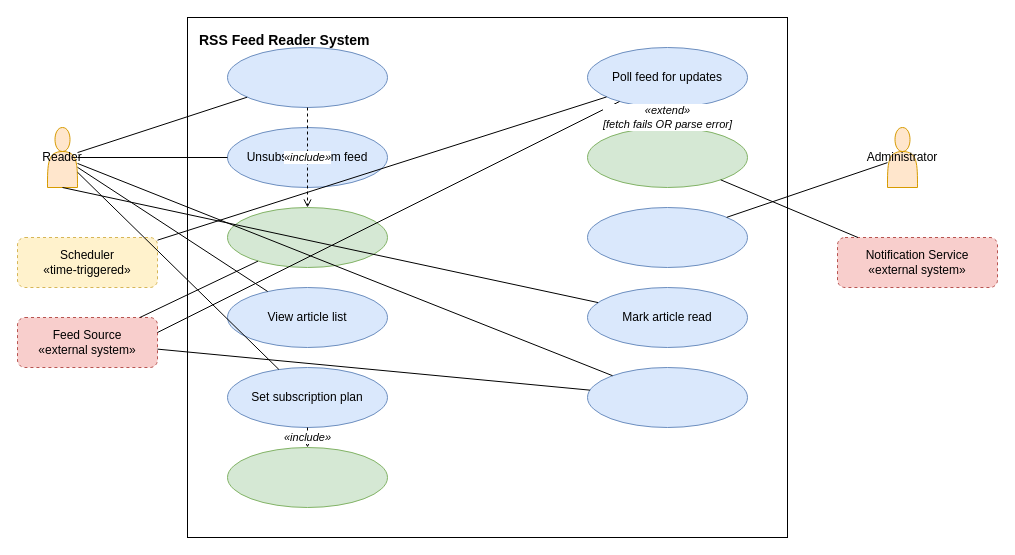
The diagram is 1015 pixels wide and 555 high, and some of its shapes have lost their labels. The centre of each missing label's shape, as x and y in pixels:
"Fetch news from two feeds" goes at pixel 667 397.
"Monitor feed health" goes at pixel 667 237.
"Send failure notice" goes at pixel 667 157.
"Subscribe to feed" goes at pixel 307 77.
"Validate feed URL" goes at pixel 307 237.
"Validate subscription days" goes at pixel 307 477.
